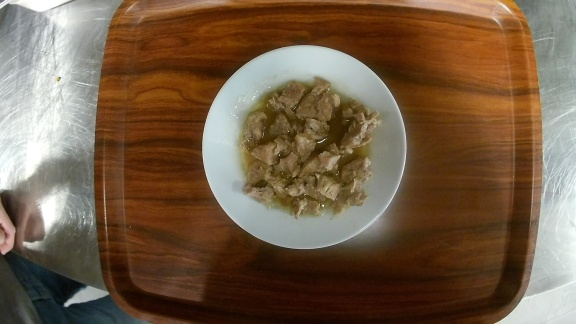etsote: (200, 44, 407, 251)
